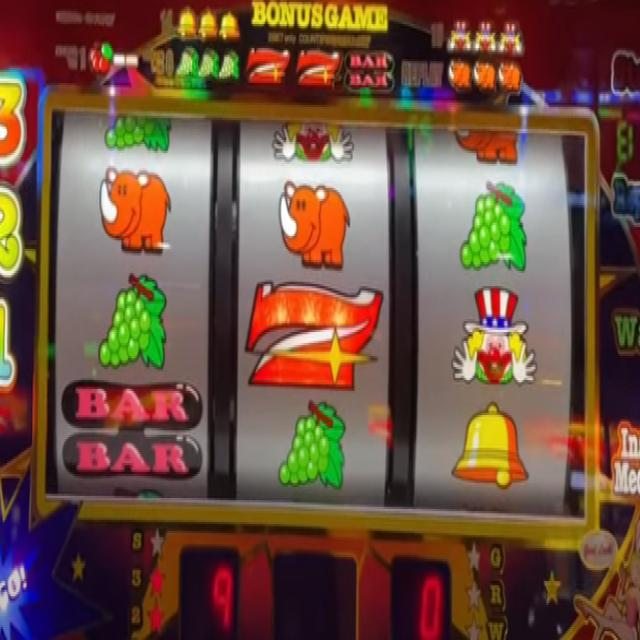bar: (59, 376, 204, 486), (344, 46, 396, 92)
bell: (451, 396, 530, 491), (175, 2, 198, 42), (198, 6, 218, 42), (219, 10, 240, 41)
cherry: (88, 40, 113, 75)
clown: (451, 283, 538, 393), (271, 118, 355, 166), (498, 15, 526, 58), (445, 16, 472, 58), (473, 15, 497, 56)
display: (45, 110, 588, 524)
elephant: (96, 164, 172, 260), (278, 178, 351, 272), (454, 128, 520, 168), (496, 61, 524, 94), (473, 60, 496, 94), (448, 60, 472, 92)
grape: (96, 269, 168, 373), (459, 176, 529, 281), (278, 394, 347, 496), (102, 118, 173, 154), (174, 48, 198, 77), (219, 46, 239, 80), (199, 46, 218, 78)
z: (242, 278, 384, 396), (245, 45, 291, 91), (296, 49, 342, 92)
